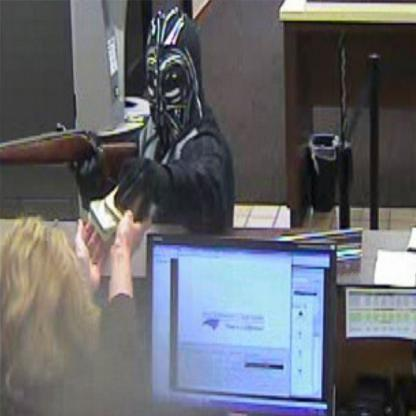guns: (0, 113, 141, 194)
